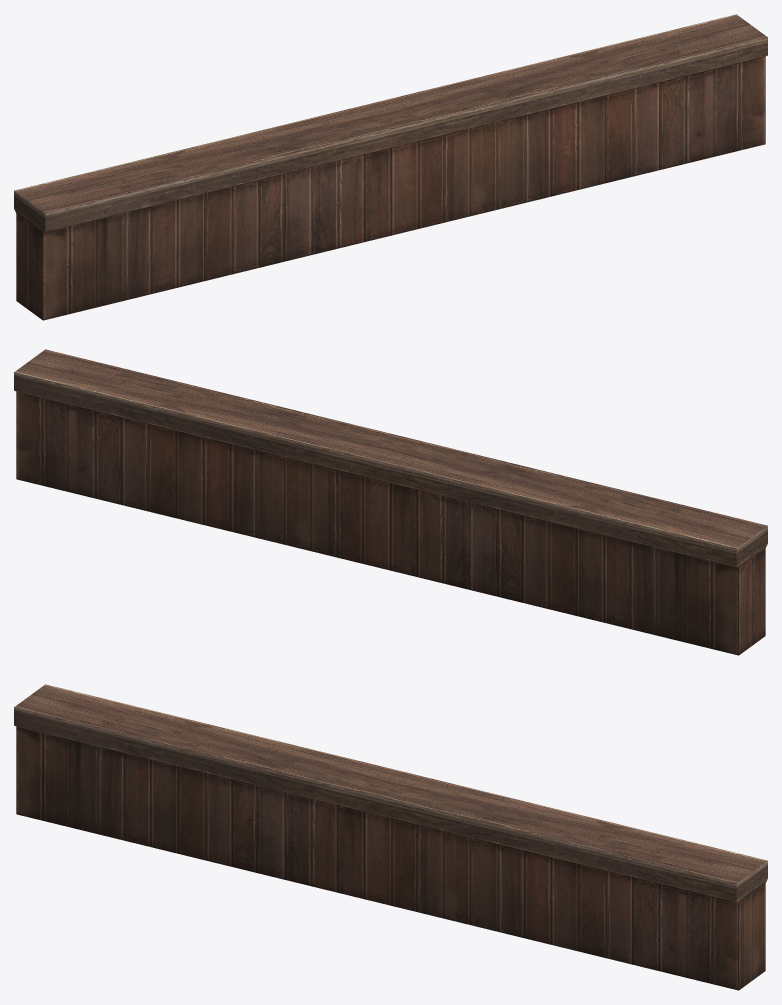
The model's file is bg_lut_lucastle_houseinborder01_sm_phs.FBX.
The picture shows the model from 3 angles, top to bottom: view 1: azimuth 30°, elevation 25°; view 2: azimuth 150°, elevation 25°; view 3: azimuth 330°, elevation 25°; orthographic projection.
Visible parts, largest first — view 1: bg_lut_lucastle_houseinborder01_sm_phs; view 2: bg_lut_lucastle_houseinborder01_sm_phs; view 3: bg_lut_lucastle_houseinborder01_sm_phs.
Boxes of the visible parts, box(x1,y1,x2,y2) form: bg_lut_lucastle_houseinborder01_sm_phs: box(14, 14, 767, 320); bg_lut_lucastle_houseinborder01_sm_phs: box(14, 349, 767, 655); bg_lut_lucastle_houseinborder01_sm_phs: box(14, 684, 767, 990).
Size of the model in its own units: 384 by 55.15 by 28.92.
